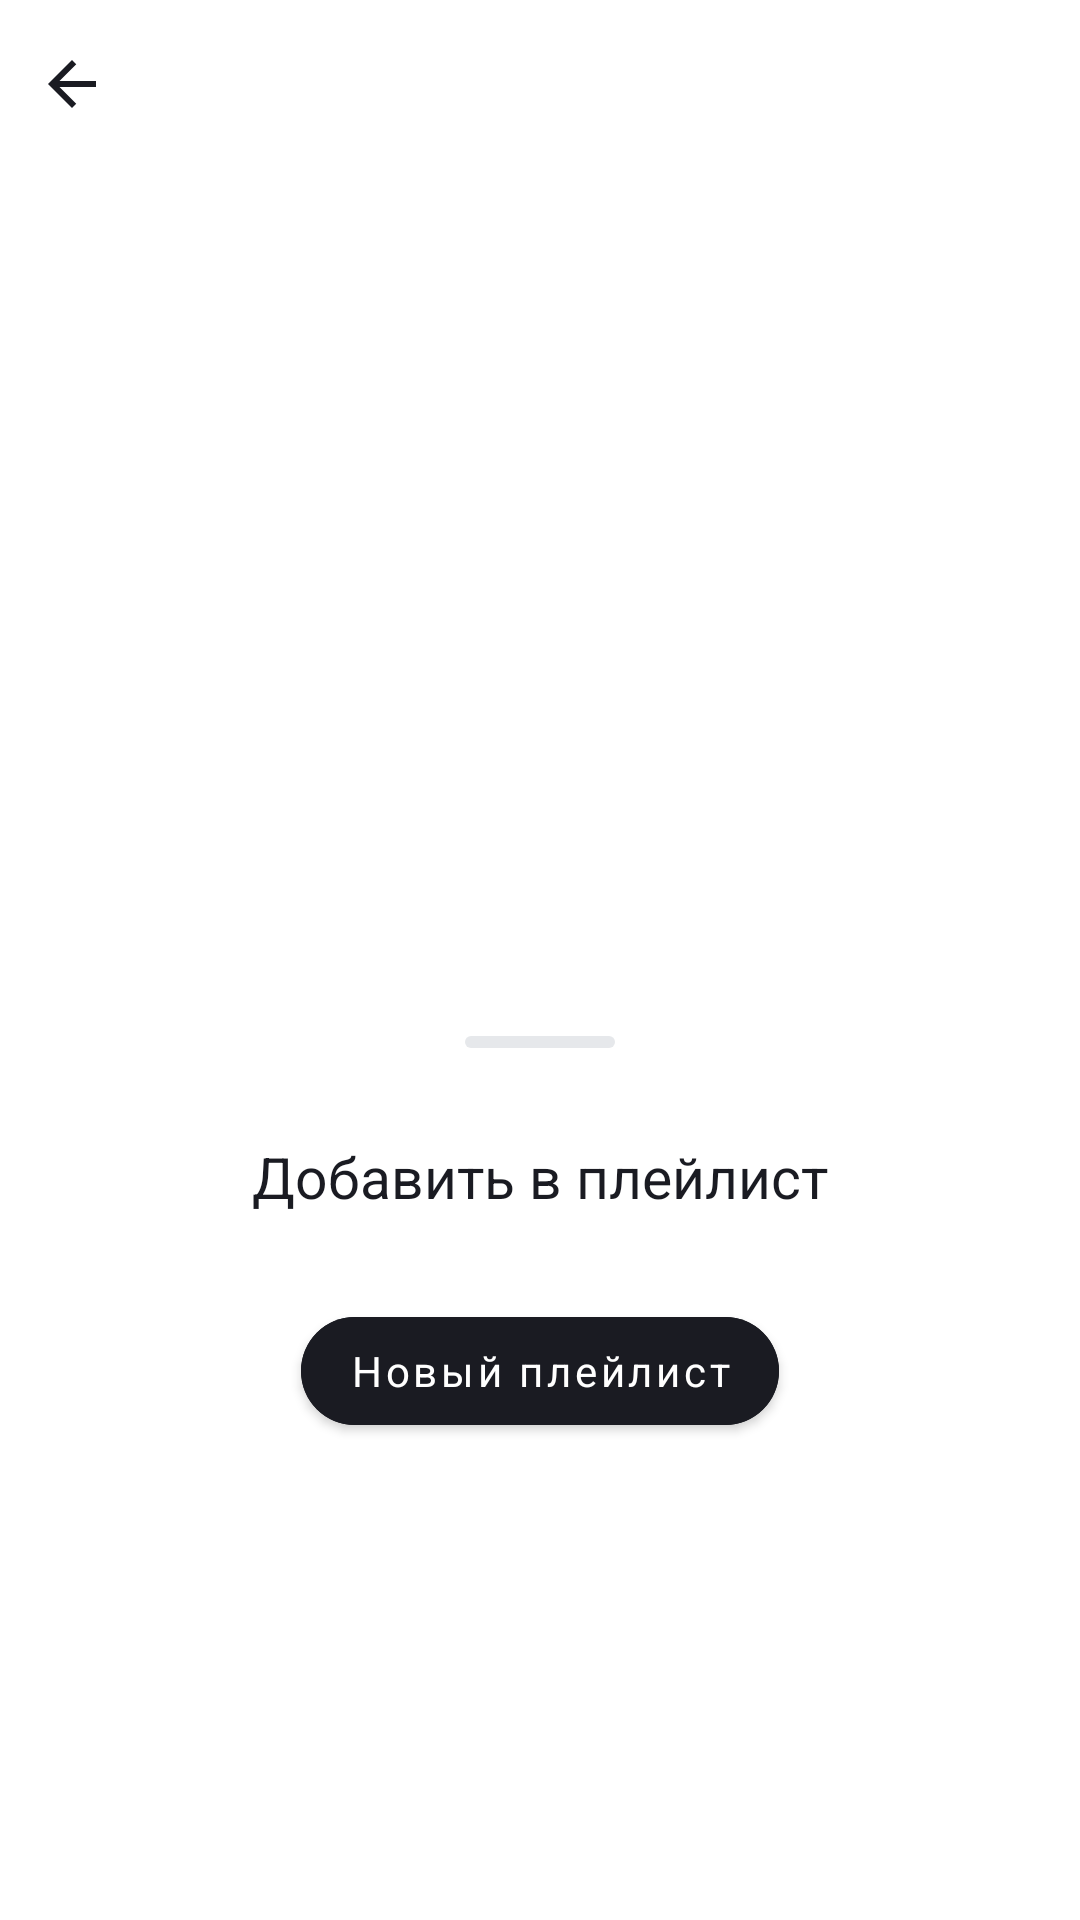

Locate icon controls on the screen. Image size 1080px×1920px, boxes as region(x1, y1, x2, y2).
arrow back: region(48, 60, 96, 108)
